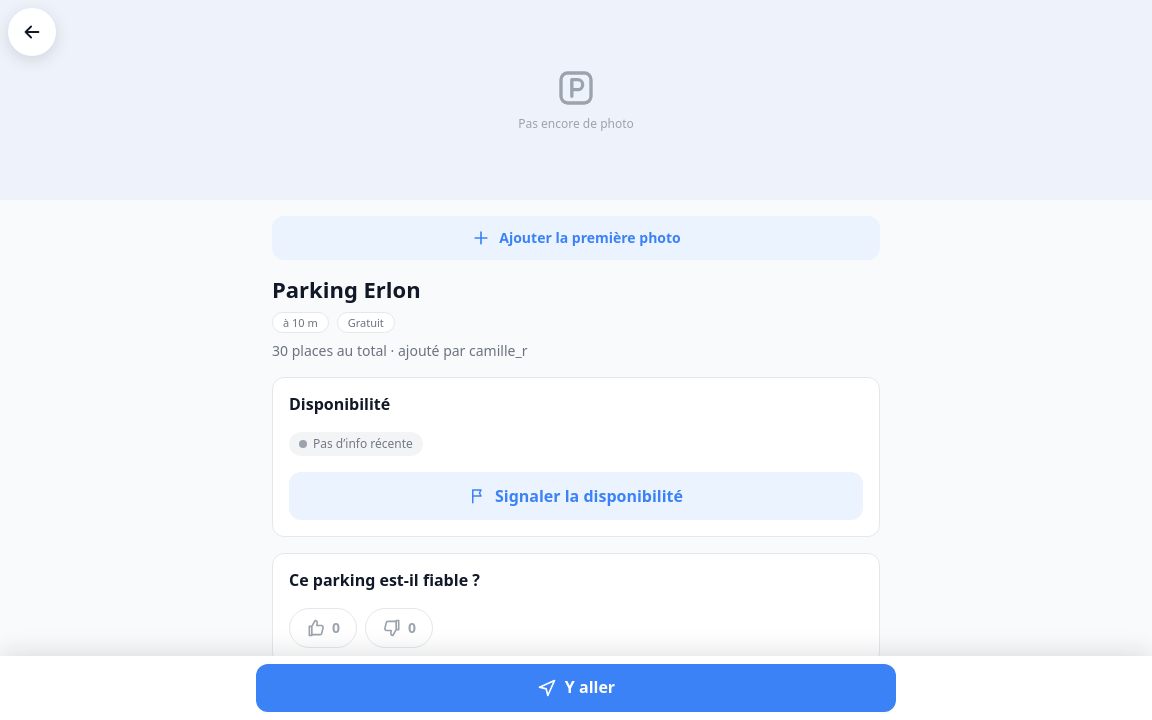
Test case: ParkingDetailsPage (vrais use cases, store en mémoire) › propose Google Maps et Waze pour « Y aller »
Click the button "Y aller" at (576, 688), box [256,664,896,712]
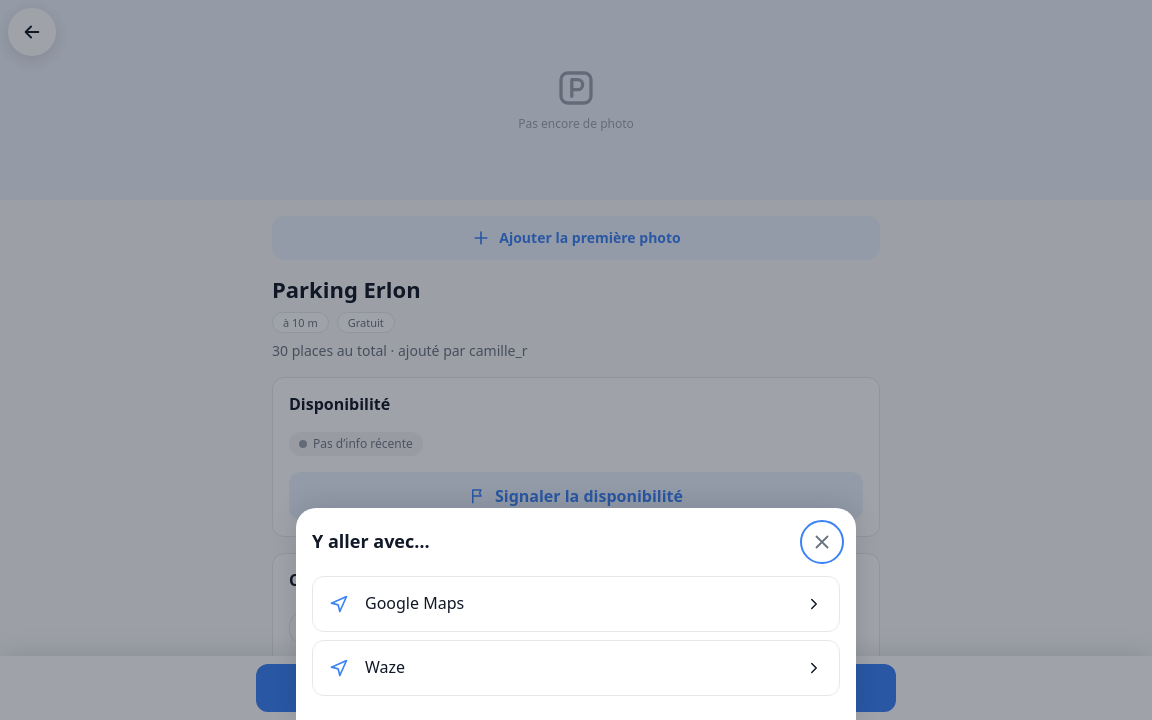
Now the link "Waze" is shown, box [312,640,840,696]
